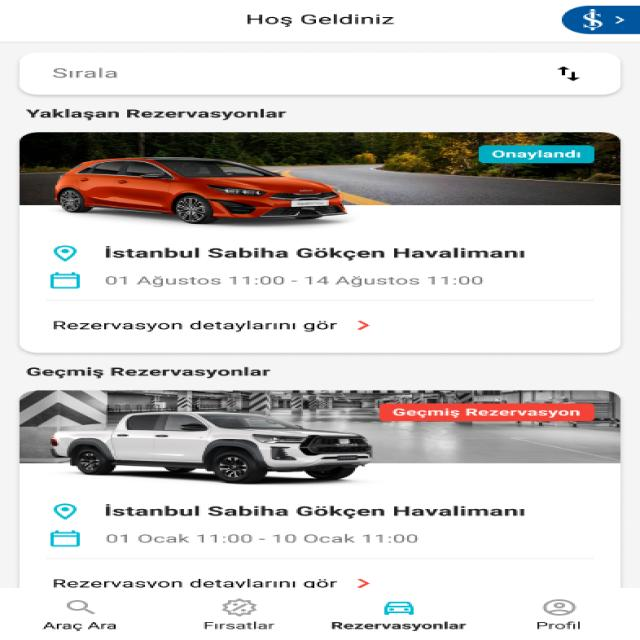QLabel: (101, 503, 528, 519), (91, 247, 518, 260), (102, 275, 488, 288), (51, 320, 341, 334), (100, 534, 422, 546), (23, 365, 273, 379), (22, 107, 290, 120), (54, 578, 337, 588), (241, 13, 395, 26), (330, 620, 468, 630), (41, 621, 118, 631), (201, 621, 277, 630), (534, 621, 582, 630)
VAppBar: (1, 0, 640, 43)
VBottomNavigation: (0, 590, 640, 640)
VBtn: (321, 596, 476, 634), (190, 595, 286, 635), (30, 596, 127, 635), (519, 595, 591, 634)
VCard: (17, 130, 623, 355), (17, 389, 625, 588)
VDivider: (41, 555, 600, 561), (40, 298, 597, 303)
VIcon: (218, 598, 258, 618), (50, 270, 83, 290), (60, 599, 99, 615), (542, 598, 574, 615), (50, 530, 80, 546), (383, 601, 414, 614), (54, 503, 77, 520), (54, 245, 77, 261), (356, 578, 369, 588), (356, 320, 370, 329)
VImg: (24, 394, 618, 492), (24, 138, 616, 230), (560, 5, 639, 35)
VTextField: (18, 52, 624, 98)
